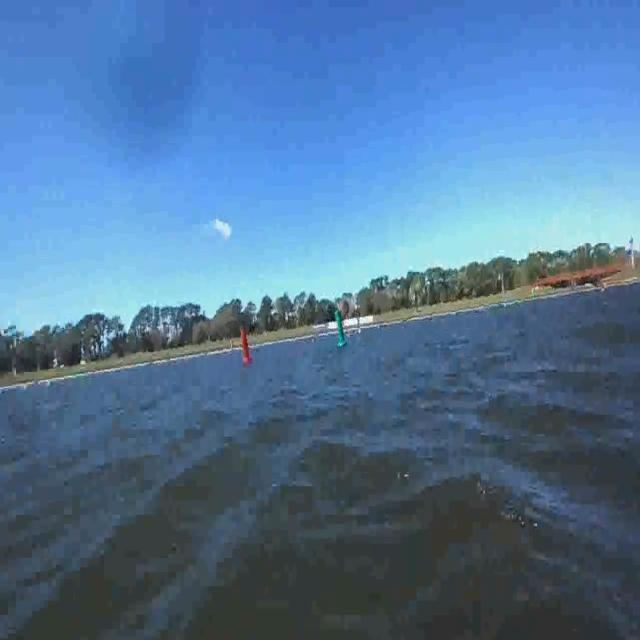green-column-buoy: (336, 312, 349, 350)
red-column-buoy: (238, 328, 250, 366)
